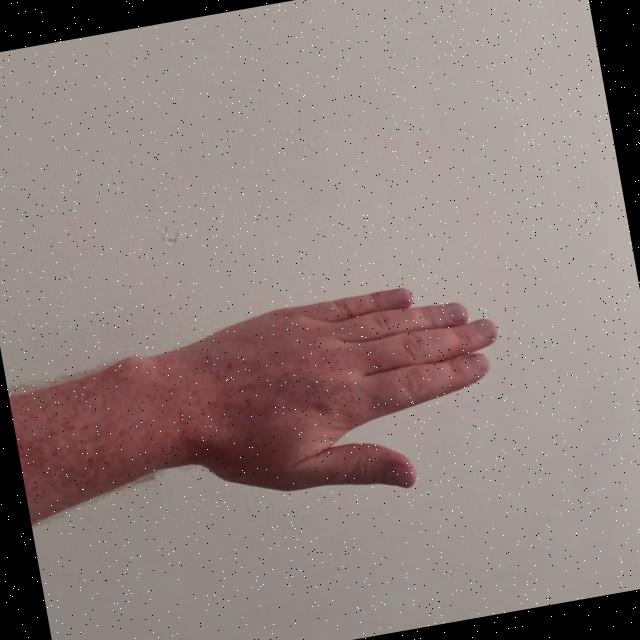papper: (102, 262, 527, 538)
